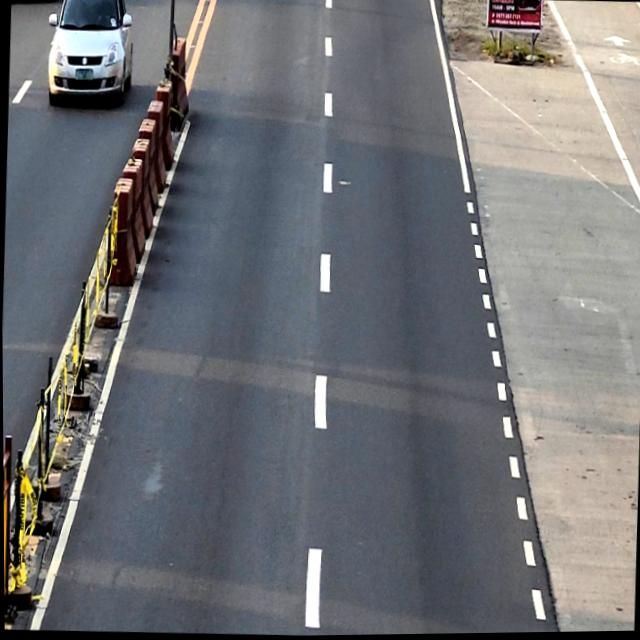Car: (45, 0, 135, 107)
License-Plate: (74, 68, 93, 80)
